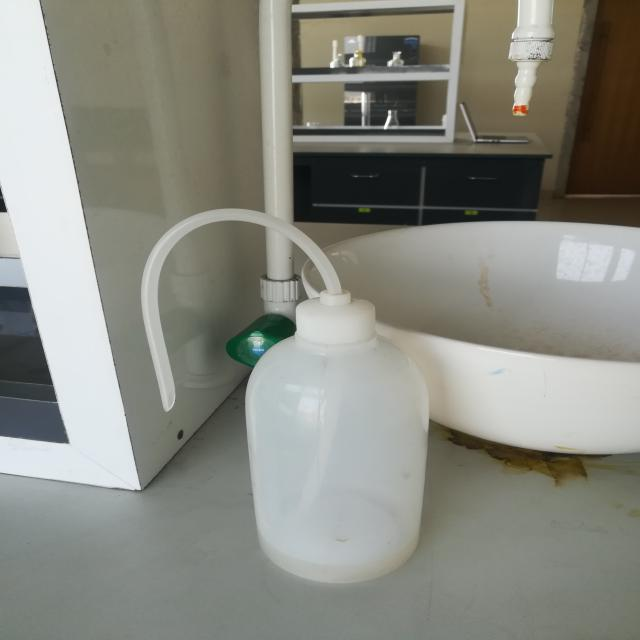Wash_Bottle: (91, 179, 476, 616)
